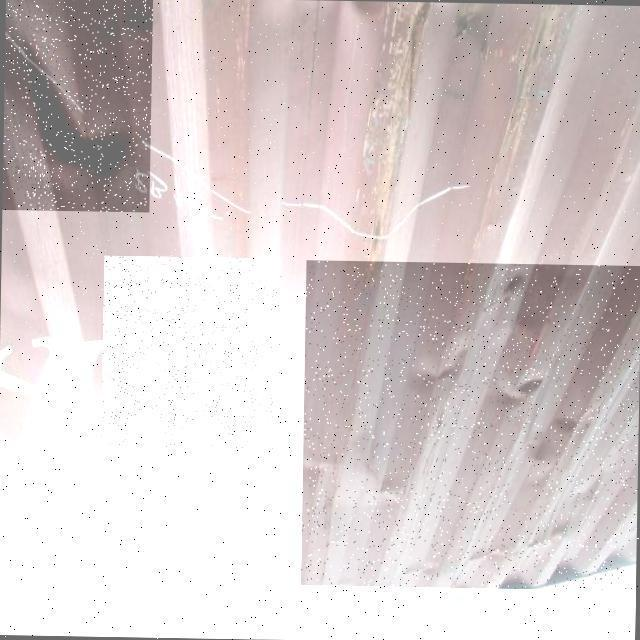dent: (301, 260, 640, 591), (102, 257, 282, 450), (2, 1, 153, 212)
